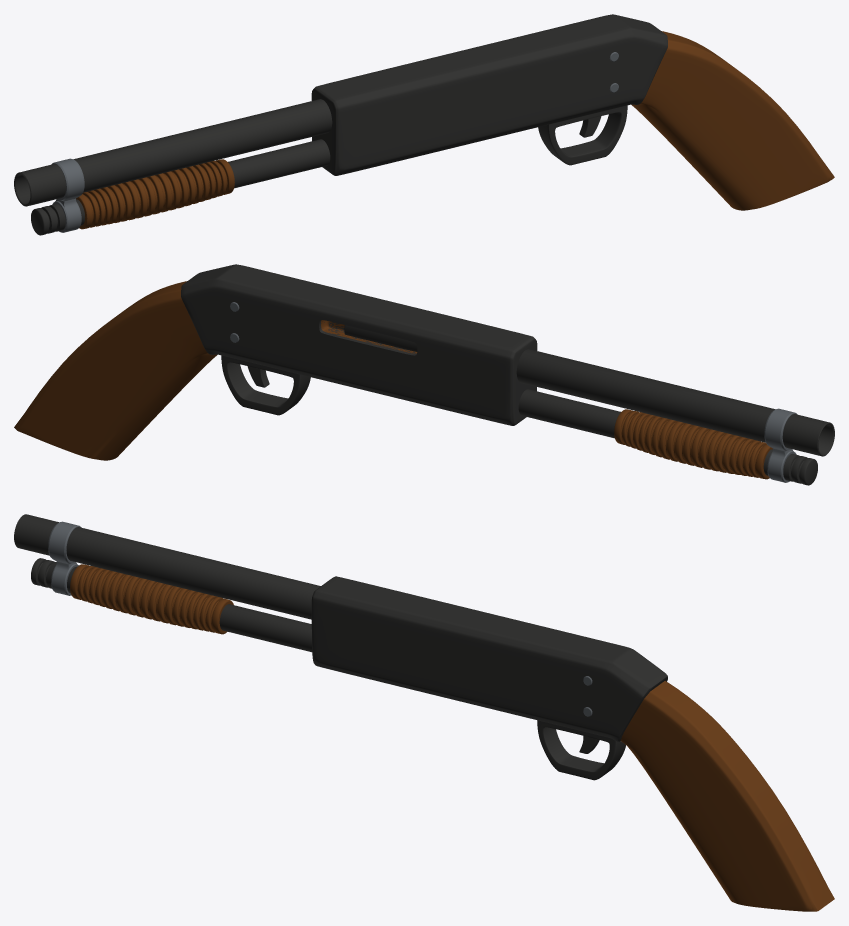
Rendered from Shotgun.fbx.
The picture shows the model from 3 angles, top to bottom: view 1: azimuth 30°, elevation 25°; view 2: azimuth 150°, elevation 25°; view 3: azimuth 330°, elevation 25°; orthographic projection.
Parts seen in each view (by area): view 1: Cube.001, Cube, Cylinder, Cylinder.003, Cylinder.001, Cylinder.002; view 2: Cube.001, Cube, Cylinder, Cylinder.003, Cylinder.001, Cylinder.002; view 3: Cube.001, Cube, Cylinder, Cylinder.003, Cylinder.001, Cylinder.002.
Boxes of the visible parts, left/top/right/bottom form: Cube.001: left=311, top=14, right=667, bottom=175; Cube: left=631, top=31, right=834, bottom=210; Cylinder: left=14, top=99, right=332, bottom=206; Cylinder.003: left=76, top=159, right=234, bottom=229; Cylinder.001: left=31, top=139, right=330, bottom=235; Cylinder.002: left=51, top=158, right=84, bottom=232; Cube.001: left=181, top=264, right=537, bottom=425; Cube: left=14, top=281, right=417, bottom=460; Cylinder: left=344, top=325, right=834, bottom=456; Cylinder.003: left=614, top=409, right=772, bottom=479; Cylinder.001: left=518, top=389, right=817, bottom=485; Cylinder.002: left=764, top=408, right=797, bottom=482; Cube.001: left=311, top=576, right=667, bottom=780; Cube: left=620, top=681, right=834, bottom=911; Cylinder: left=14, top=514, right=320, bottom=619; Cylinder.003: left=70, top=564, right=233, bottom=634; Cylinder.001: left=31, top=558, right=312, bottom=652; Cylinder.002: left=48, top=521, right=81, bottom=595.
Bounding box in the file's own units: 2714 × 689 × 160.
